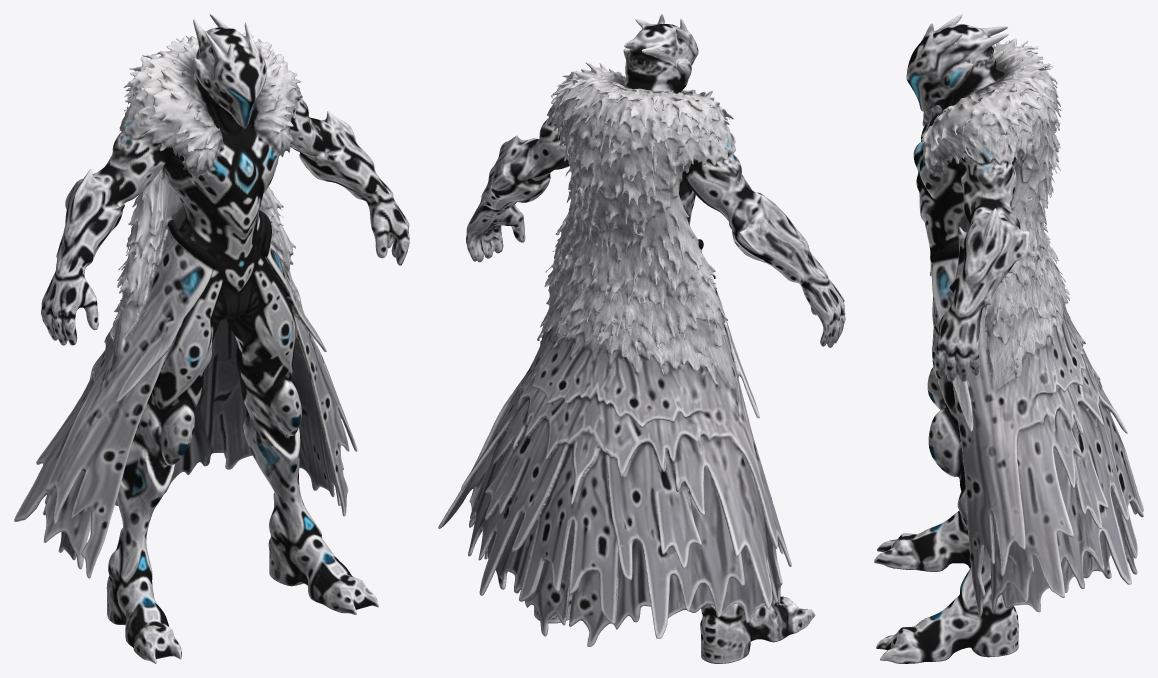
File: DRAKOS_ Variações da Armadura - NIVEL 6 3D.glb
The picture shows the model from 3 angles, left to right: view 1: azimuth 30°, elevation 25°; view 2: azimuth 150°, elevation 25°; view 3: azimuth 270°, elevation 25°; orthographic projection. The views are drawn at different scales.
Size of the model in its own units: 1.2 by 1.86 by 0.7799.
1 material, 1 textured.
